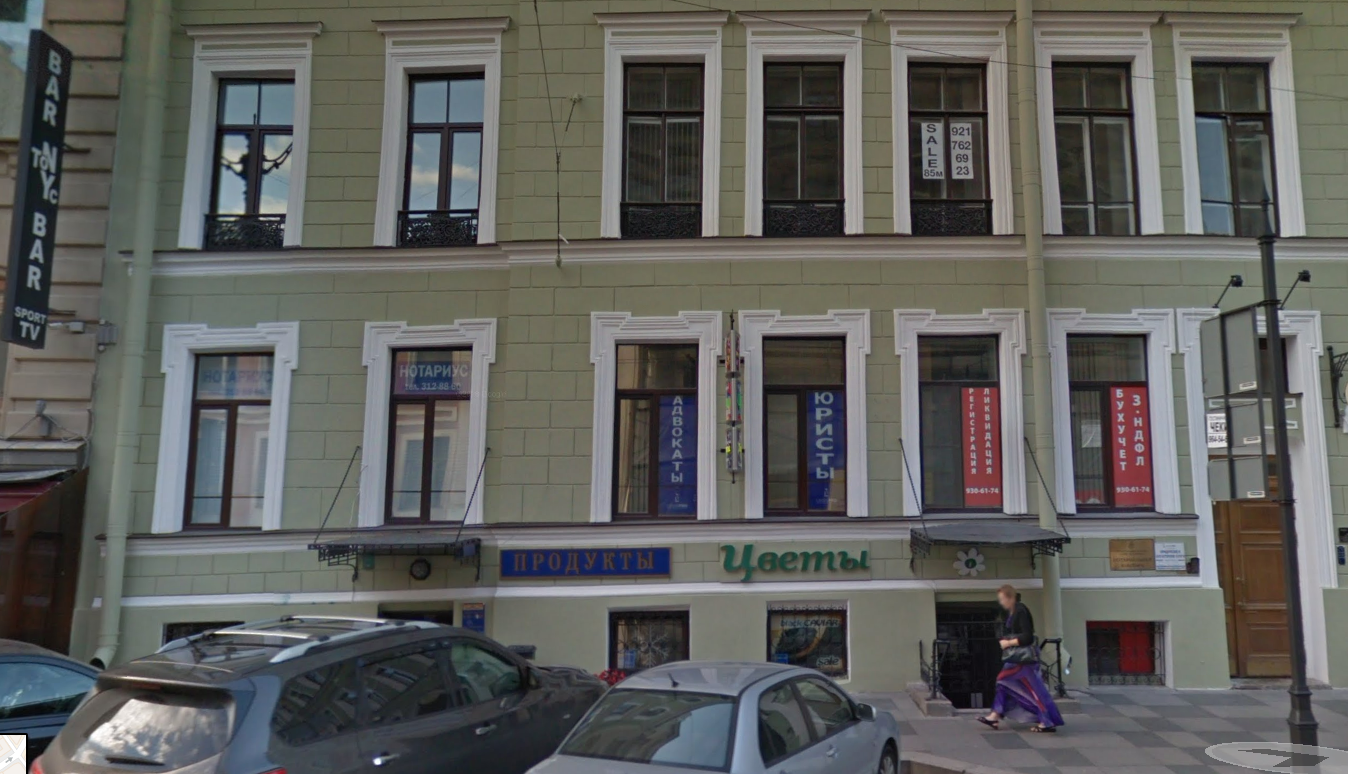cantilever: (1, 27, 95, 363)
signboard: (713, 539, 884, 586), (498, 548, 679, 578), (949, 547, 987, 577)
window: (1047, 55, 1149, 237), (1067, 334, 1163, 513), (905, 56, 1000, 236), (918, 327, 1008, 516), (762, 329, 848, 521), (618, 58, 703, 236), (1195, 62, 1284, 228), (399, 70, 482, 247), (382, 344, 463, 525), (766, 55, 842, 239), (619, 340, 692, 523), (220, 70, 290, 257), (202, 344, 261, 527)
